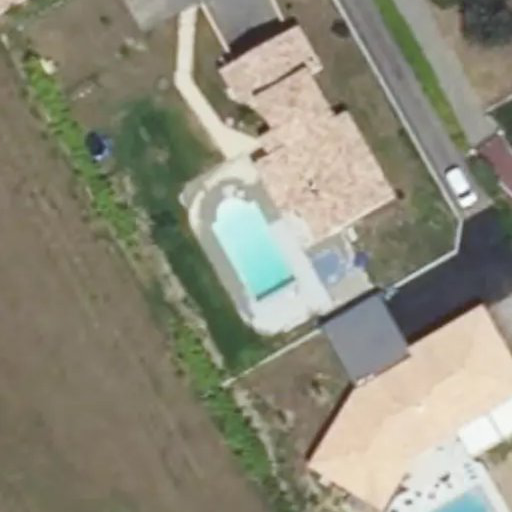pool: (203, 200, 299, 274)
